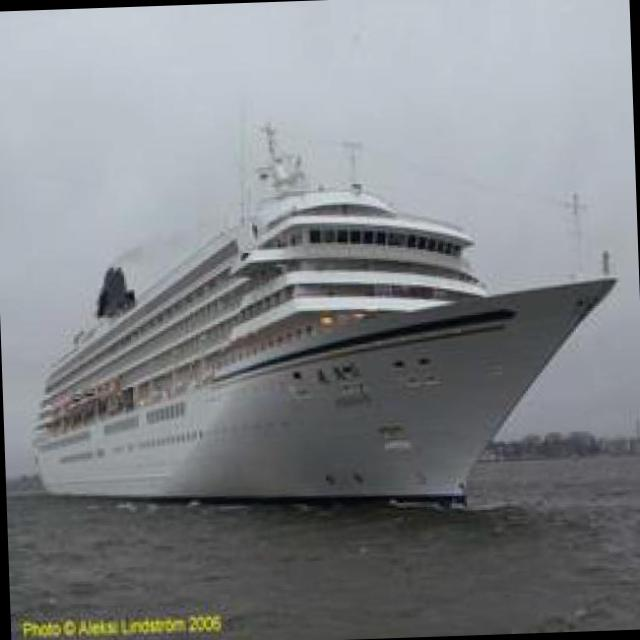boat: (30, 122, 630, 538)
